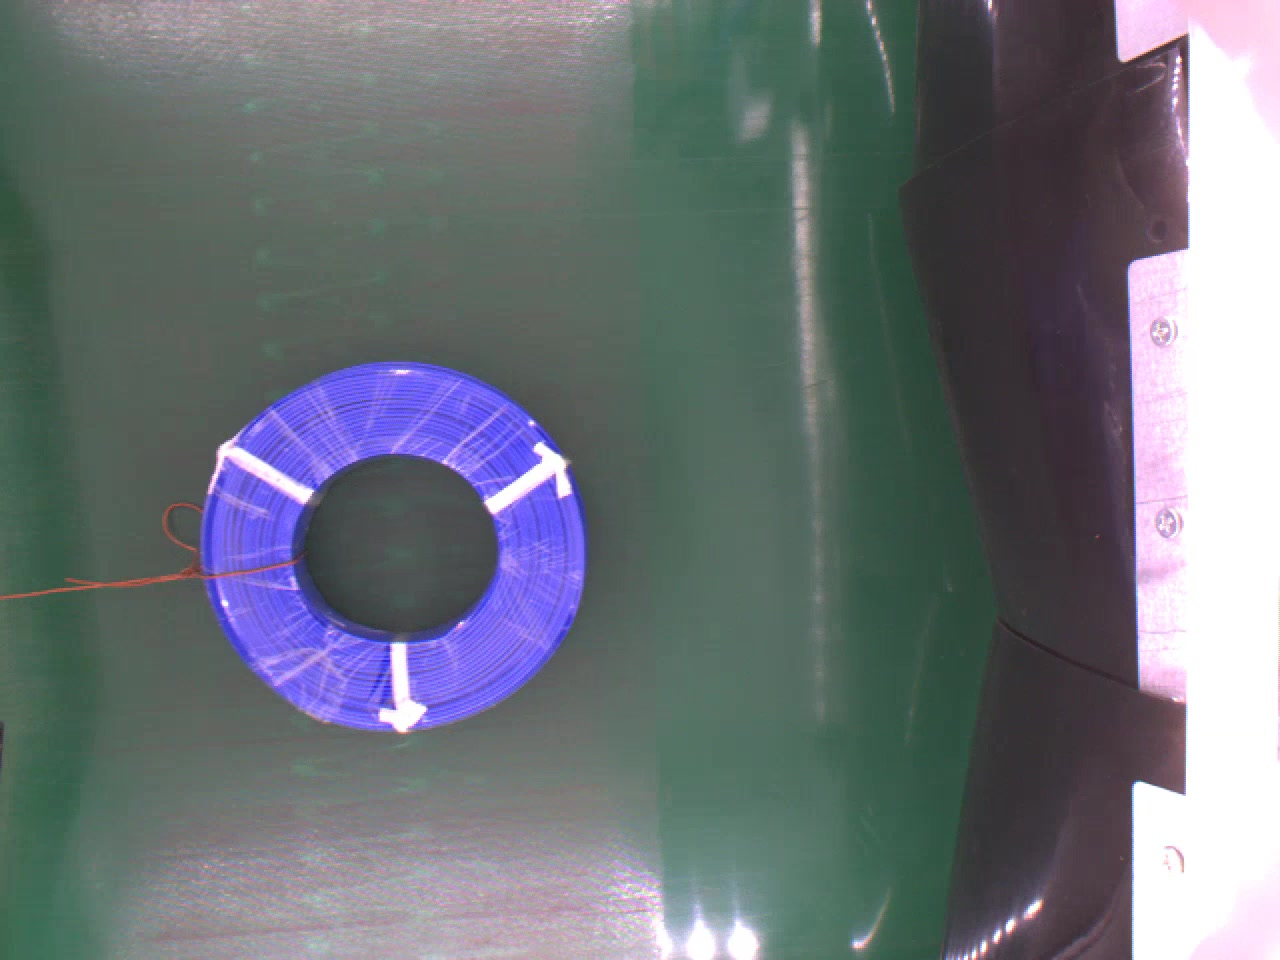blue: (194, 356, 589, 738)
